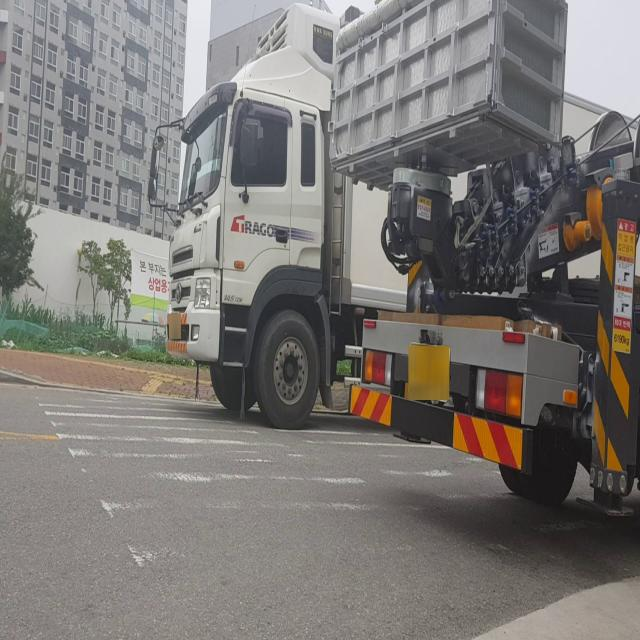횡단보도: (31, 388, 640, 640)
